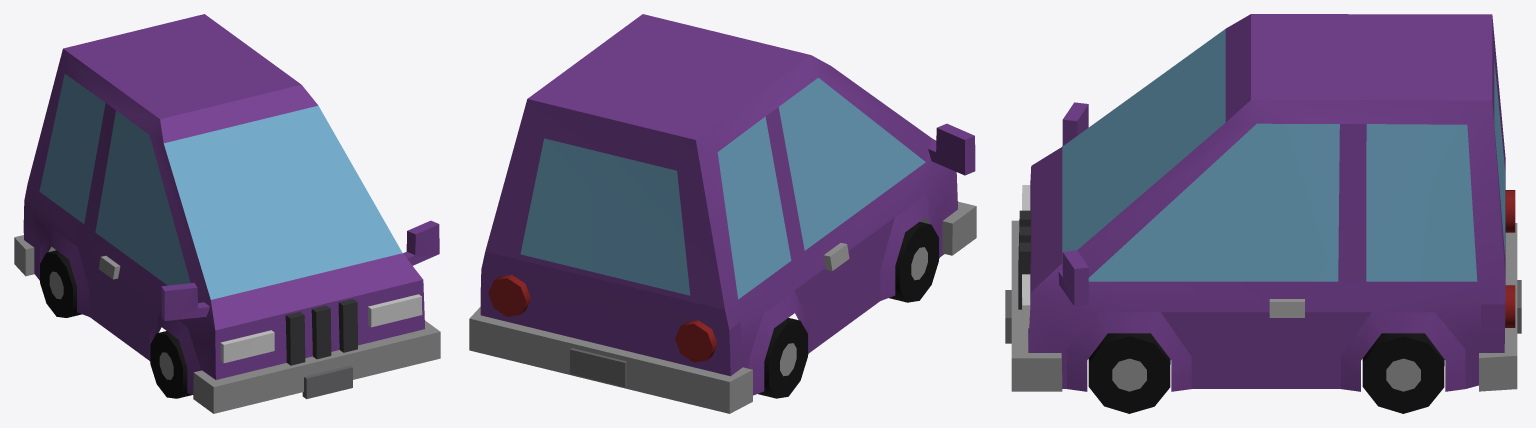
Rendered from Car_12_purple.fbx.
The picture shows the model from 3 angles, left to right: view 1: azimuth 30°, elevation 25°; view 2: azimuth 150°, elevation 25°; view 3: azimuth 270°, elevation 25°; orthographic projection. The views are drawn at different scales.
Visible parts, largest first — view 1: Car_12_purple; view 2: Car_12_purple; view 3: Car_12_purple.
Part boxes in pixels (x1,y1,x2,y2): Car_12_purple: [14, 14, 440, 413]; Car_12_purple: [469, 14, 976, 413]; Car_12_purple: [1005, 14, 1521, 413].
Size of the model in its own units: 57.9 by 46.7 by 75.74.
